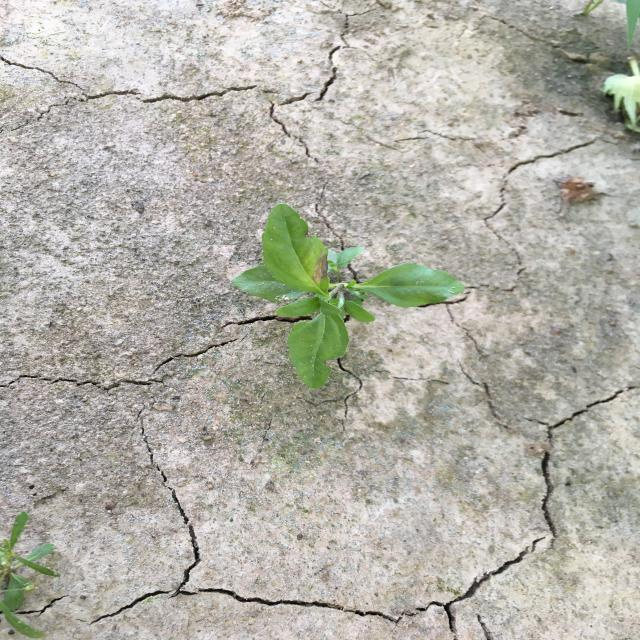Carpetweed: (1, 510, 64, 638)
Eclipta: (229, 203, 467, 390)
